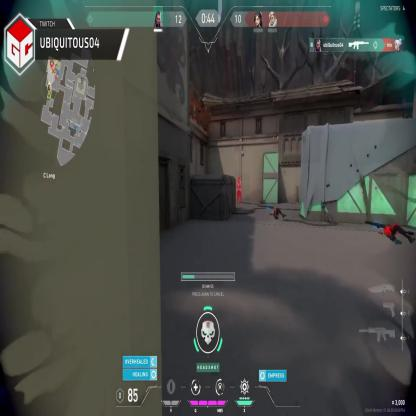enemy: (235, 176, 242, 205)
enemy_head: (238, 177, 240, 182)
